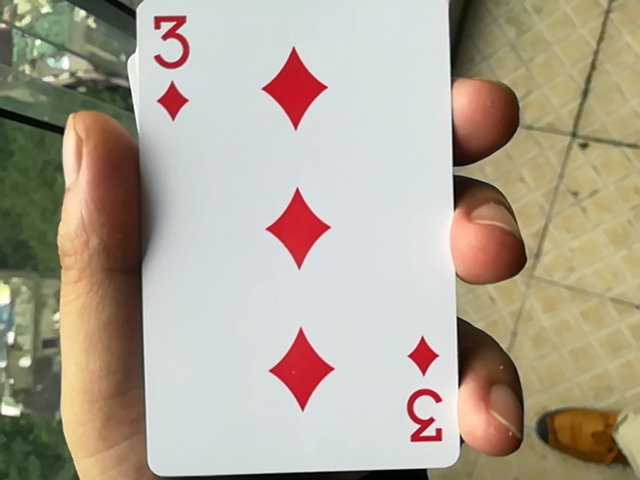fk 3: (118, 0, 464, 474)
